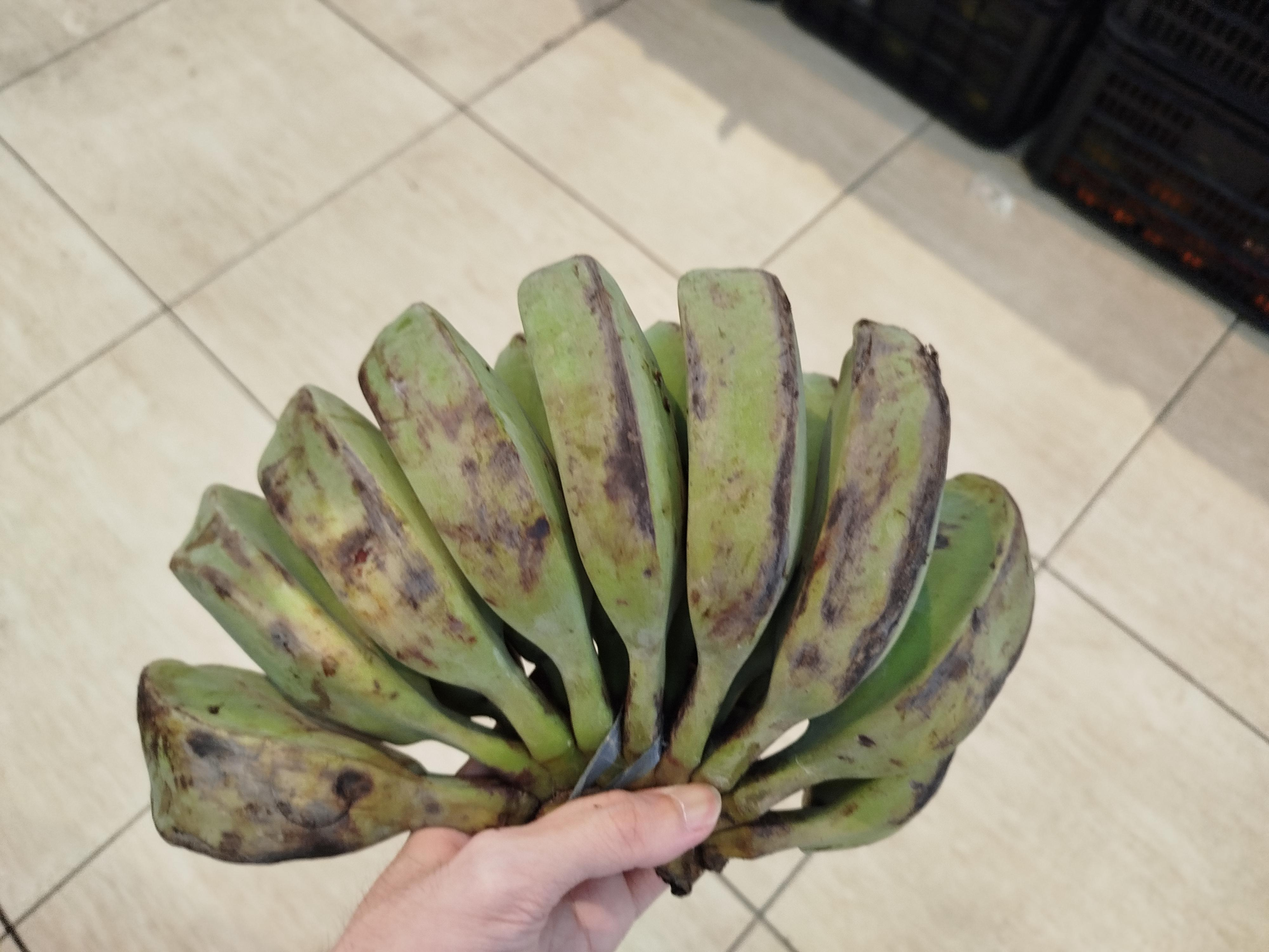underripe: (138, 255, 1034, 863)
